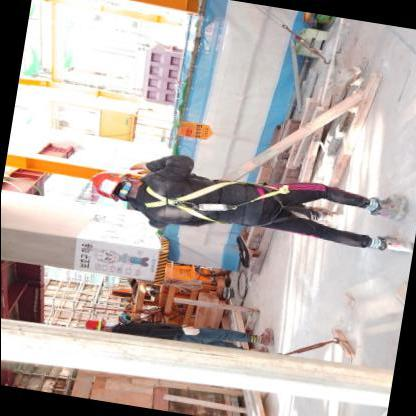safety-shoe: (370, 187, 416, 226), (381, 231, 414, 262), (246, 322, 278, 349)
